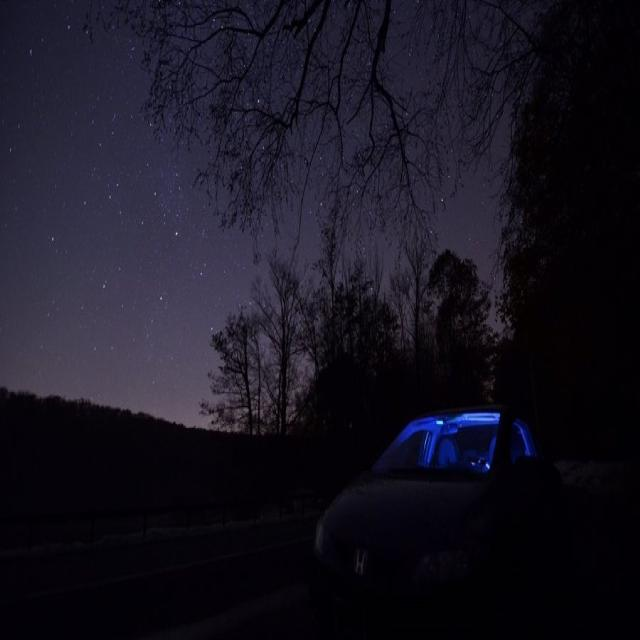car: (313, 399, 585, 636)
